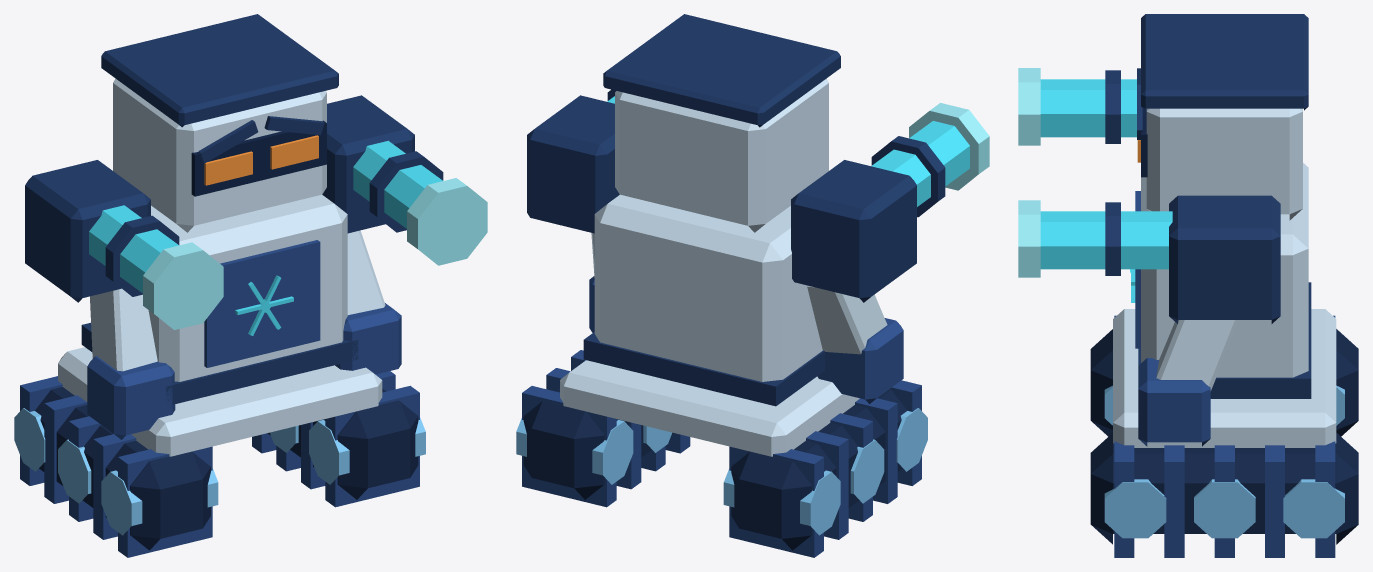
File: r2_mini_blizzard_gunner.glb
3 views of the same model, side by side, from view 1: azimuth 30°, elevation 25°; view 2: azimuth 150°, elevation 25°; view 3: azimuth 270°, elevation 25° (orthographic). The views are drawn at different scales.
Visible parts, largest first — view 1: r2_mini_blizzard_gunner_mesh; view 2: r2_mini_blizzard_gunner_mesh; view 3: r2_mini_blizzard_gunner_mesh.
Part boxes in pixels (x1,y1,x2,y2): r2_mini_blizzard_gunner_mesh: (14,14,487,557); r2_mini_blizzard_gunner_mesh: (516,14,989,557); r2_mini_blizzard_gunner_mesh: (1018,14,1358,557).
Bounding box in the file's own units: 3.84 × 4.5 × 3.21.
1 material, 1 textured.
